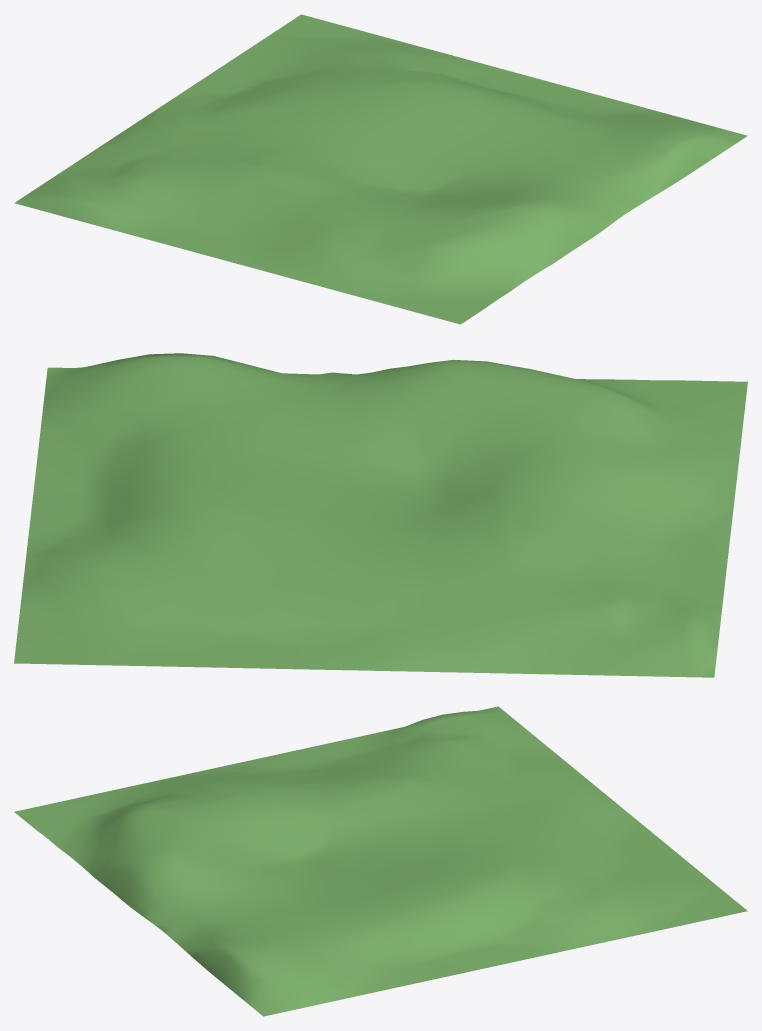
Rendered from SM_Terrain_12.obj.
3 renders of one model, top to bottom at view 1: azimuth 30°, elevation 25°; view 2: azimuth 150°, elevation 25°; view 3: azimuth 270°, elevation 25°, orthographic. The views are drawn at different scales.
Parts seen in each view (by area): view 1: SM_Terrain_12; view 2: SM_Terrain_12; view 3: SM_Terrain_12.
Boxes of the visible parts, left/top/right/bottom form: SM_Terrain_12: left=14, top=14, right=747, bottom=324; SM_Terrain_12: left=14, top=353, right=747, bottom=677; SM_Terrain_12: left=14, top=706, right=747, bottom=1016.
Bounding box in the file's own units: 32.89 × 1.51 × 32.89.
Materials: 1 (1 with a texture image).
